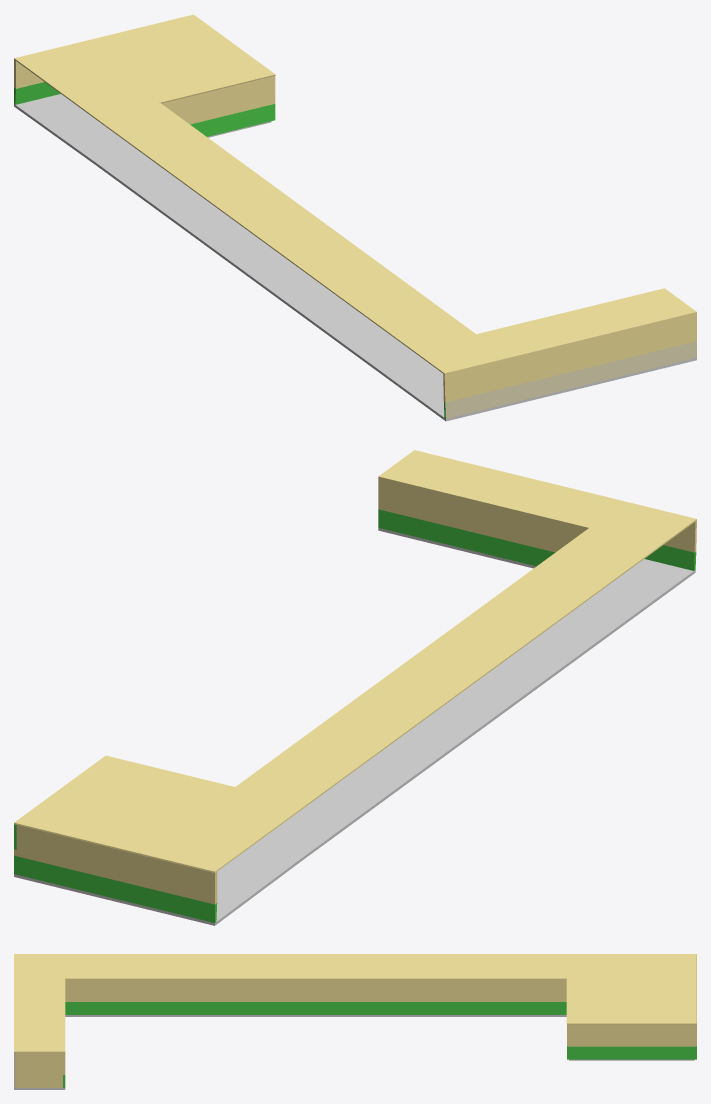
File: interior_school_room_east_00.fbx
3 views of the same model, one above another, from view 1: azimuth 30°, elevation 25°; view 2: azimuth 150°, elevation 25°; view 3: azimuth 270°, elevation 25° (orthographic). The views are drawn at different scales.
Parts seen in each view (by area): view 1: Visible Mesh; view 2: Visible Mesh; view 3: Visible Mesh.
Part boxes in pixels (bbox=[...]): Visible Mesh: bbox=[14, 14, 696, 421]; Visible Mesh: bbox=[14, 450, 696, 925]; Visible Mesh: bbox=[14, 954, 696, 1089].
Size of the model in its own units: 2076 by 380 by 6139.
